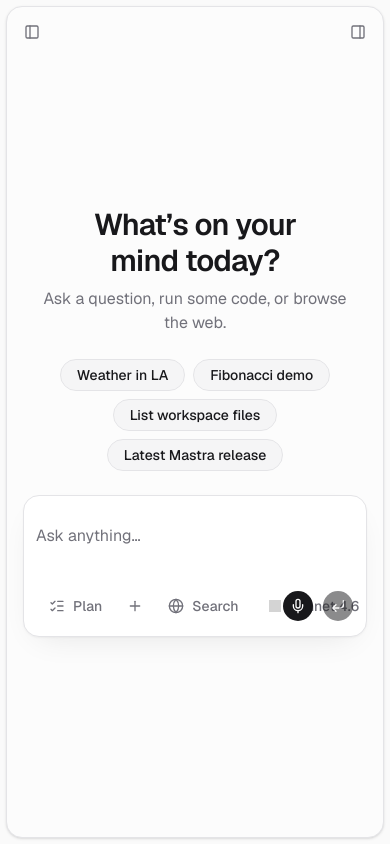
Test: ChatSwitcher — phones › closes the sheet on New chat
Click the button named "Show conversations": (32, 32) [10,10,54,54]
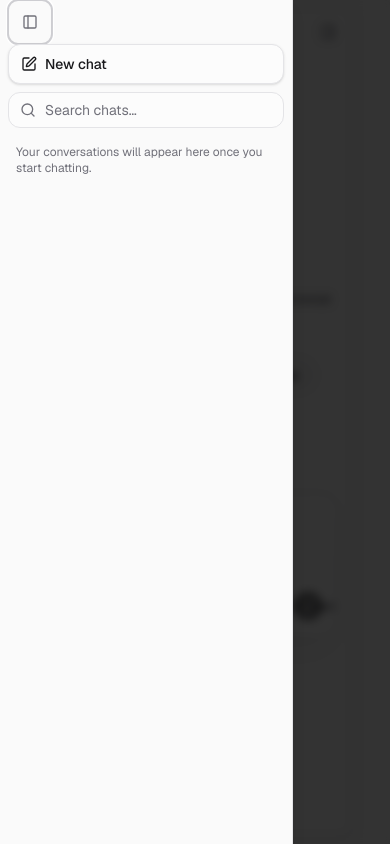
Click the button "New chat": (76, 64) [8,44,284,84]
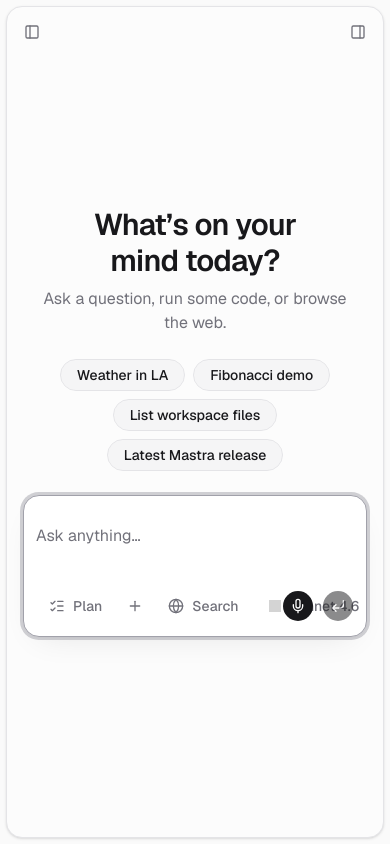
Now the text "conversations" is gone
